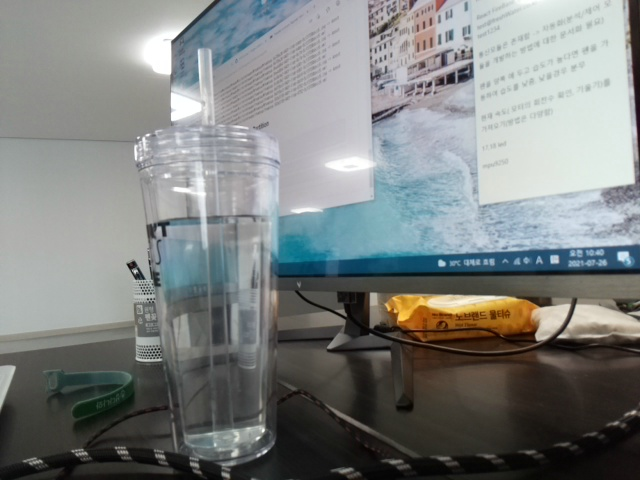Bottle2: (114, 47, 316, 480)
